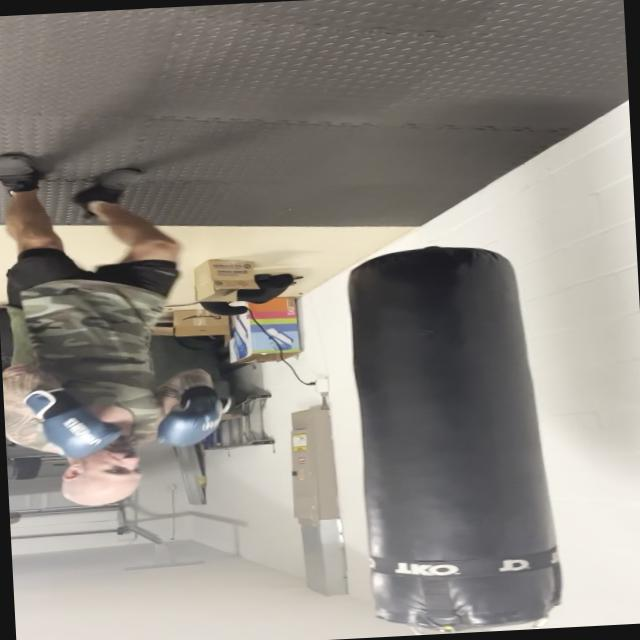bag: (346, 232, 552, 631)
no punch: (1, 352, 228, 518)
